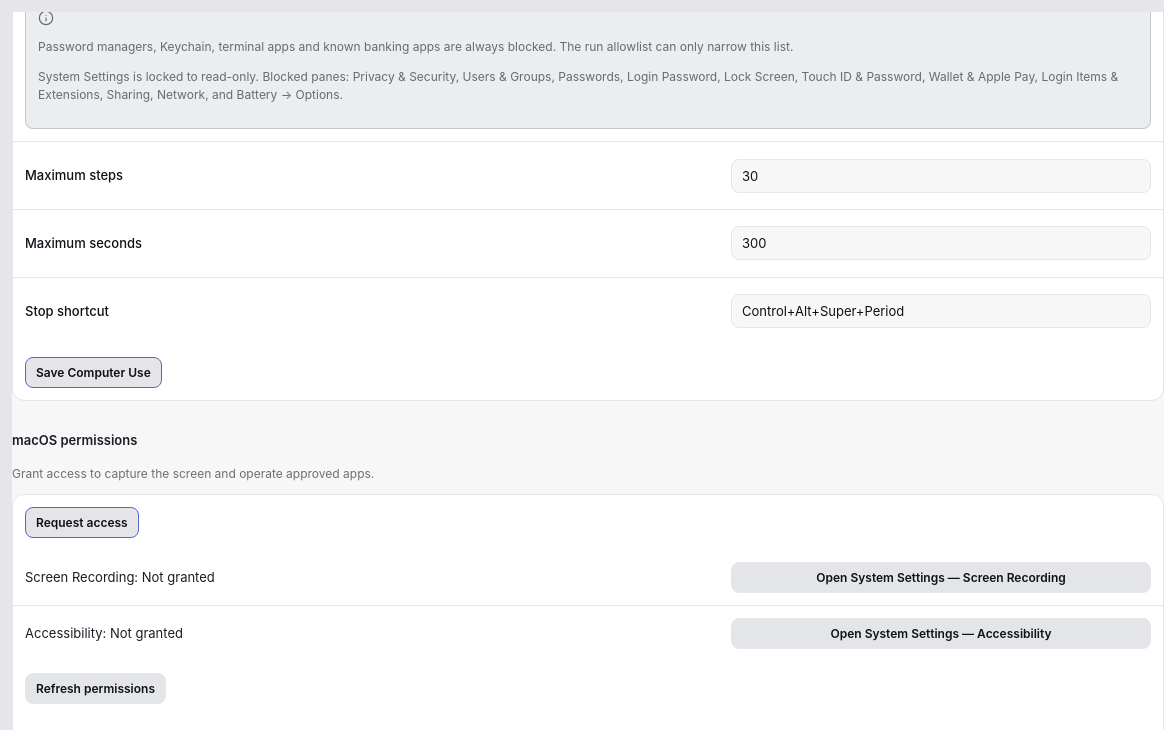
Test: computer use › requests access and opens only missing panes: {"screen":true,"accessibility":false}
(page scrolled)
Click the button "Request access": (82, 523) [25,507,139,538]
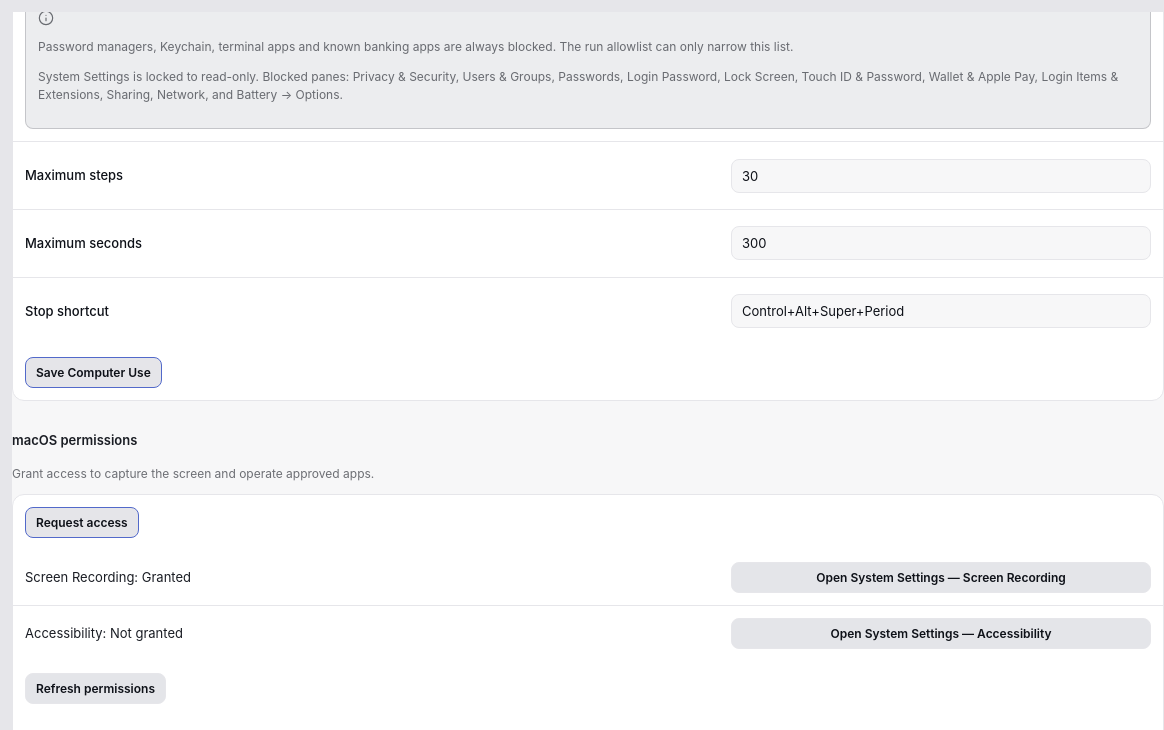
Expected: the text "Accessibility: Not granted" is shown, [25,625,183,641]
Now the text "Screen Recording: Granted" is shown, box [25,569,191,585]
